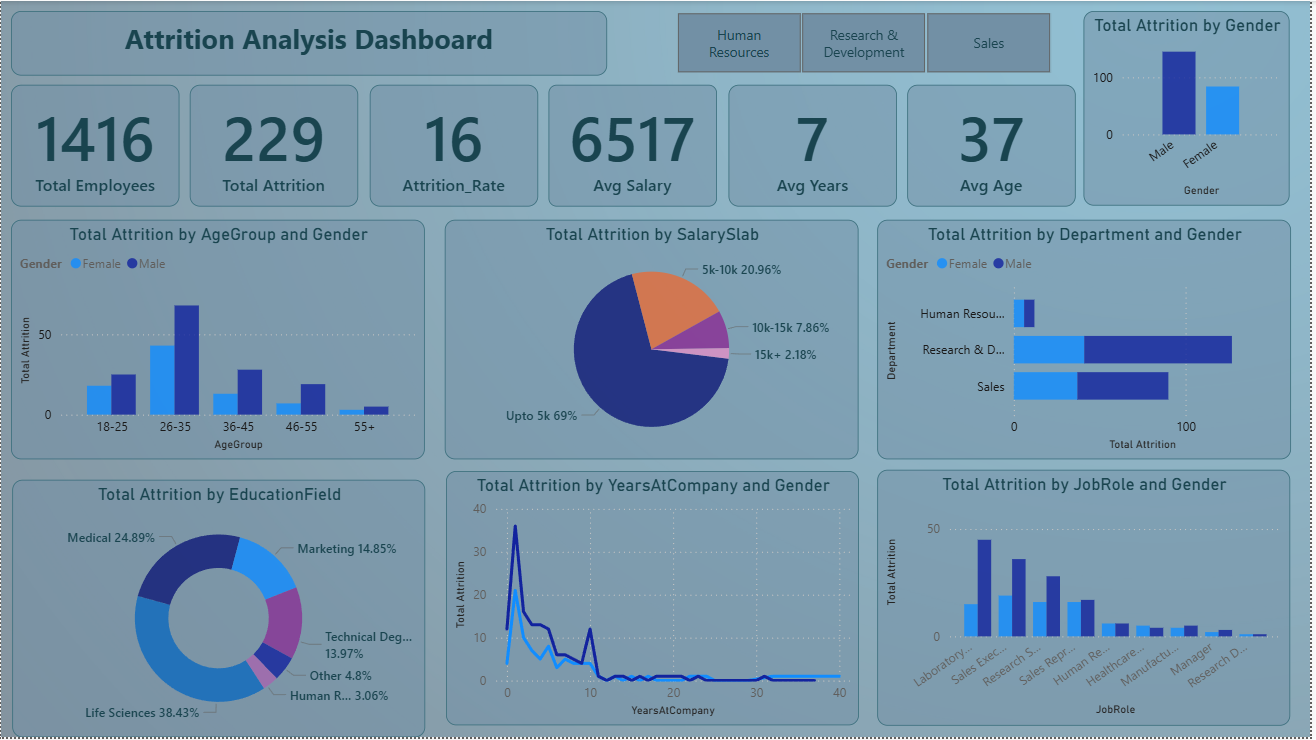

Layout of this report page (visuals, bound fields, positions):
{"tool":"powerbi","page":{"name":"Attrition_analysis","canvas":[1280,720],"ordinal":0},"visuals":[{"type":"card","fields":{"Values":["HR_Analytics.Avg Salary"]},"box":[535.8,82.3,164.7,119.4],"z":0},{"type":"card","fields":{"Values":["HR_Analytics.Total Attrition"]},"box":[185.2,82.3,164.7,119.4],"z":1000},{"type":"card","fields":{"Values":["HR_Analytics.Attrition_Rate"]},"box":[360.5,82.3,164.7,119.4],"z":2000},{"type":"card","fields":{"Values":["HR_Analytics.Total Employees"]},"box":[9.6,82.3,165,119],"z":3000},{"type":"card","fields":{"Values":["HR_Analytics.Avg Years"]},"box":[711.1,82.3,164.7,119.4],"z":4000},{"type":"card","fields":{"Values":["HR_Analytics.Avg Age"]},"box":[886.5,82.3,164.7,119.4],"z":5000},{"type":"clusteredColumnChart","fields":{"Y":["HR_Analytics.Total Attrition"],"Category":["HR_Analytics.AgeGroup"],"Series":["HR_Analytics.Gender"]},"box":[9.6,214.1,404.8,234.6],"z":6000},{"type":"pieChart","fields":{"Category":["HR_Analytics.SalarySlab"],"Y":["HR_Analytics.Total Attrition"]},"box":[433.6,214.1,404.8,234.6],"z":7000},{"type":"barChart","fields":{"Category":["HR_Analytics.Department","HR_Analytics.AgeGroup"],"Y":["HR_Analytics.Total Attrition"],"Series":["HR_Analytics.Gender"]},"box":[857.6,214.1,404.8,234.6],"z":8000},{"type":"donutChart","fields":{"Y":["HR_Analytics.Total Attrition"],"Category":["HR_Analytics.EducationField"]},"box":[11,468,404,252],"z":9000},{"type":"lineChart","fields":{"Category":["HR_Analytics.YearsAtCompany"],"Y":["HR_Analytics.Total Attrition"],"Series":["HR_Analytics.Gender"]},"box":[435,460,404,249],"z":10000},{"type":"clusteredColumnChart","fields":{"Y":["HR_Analytics.Total Attrition"],"Category":["HR_Analytics.JobRole"],"Series":["HR_Analytics.Gender"]},"box":[857,459,404,250],"z":11000},{"type":"clusteredColumnChart","fields":{"Category":["HR_Analytics.Gender"],"Y":["HR_Analytics.Total Attrition"]},"box":[1059.4,9.6,201.7,190.7],"z":12000},{"type":"slicer","fields":{"Values":["HR_Analytics.Department"]},"box":[635.9,4.9,414.5,72.1],"z":13000},{"type":"textbox","box":[9.6,9.6,583.2,63.1],"z":14000}]}

Visuals, with their boxes in screenshot pixels (x1, y1, x2, y2), scaled from the page's 1280x720 canvas onto the 1316x740 screenshot:
card - HR_Analytics.Avg Salary: BBox(551, 85, 720, 207)
card - HR_Analytics.Total Attrition: BBox(190, 85, 360, 207)
card - HR_Analytics.Attrition_Rate: BBox(371, 85, 540, 207)
card - HR_Analytics.Total Employees: BBox(10, 85, 180, 207)
card - HR_Analytics.Avg Years: BBox(731, 85, 900, 207)
card - HR_Analytics.Avg Age: BBox(911, 85, 1081, 207)
clusteredColumnChart - HR_Analytics.Total Attrition x HR_Analytics.AgeGroup: BBox(10, 220, 426, 461)
pieChart - HR_Analytics.SalarySlab x HR_Analytics.Total Attrition: BBox(446, 220, 862, 461)
barChart - HR_Analytics.Department x HR_Analytics.AgeGroup: BBox(882, 220, 1298, 461)
donutChart - HR_Analytics.Total Attrition x HR_Analytics.EducationField: BBox(11, 481, 427, 739)
lineChart - HR_Analytics.YearsAtCompany x HR_Analytics.Total Attrition: BBox(447, 473, 863, 729)
clusteredColumnChart - HR_Analytics.Total Attrition x HR_Analytics.JobRole: BBox(881, 472, 1296, 729)
clusteredColumnChart - HR_Analytics.Gender x HR_Analytics.Total Attrition: BBox(1089, 10, 1297, 206)
slicer - HR_Analytics.Department: BBox(654, 5, 1080, 79)
textbox: BBox(10, 10, 609, 75)
